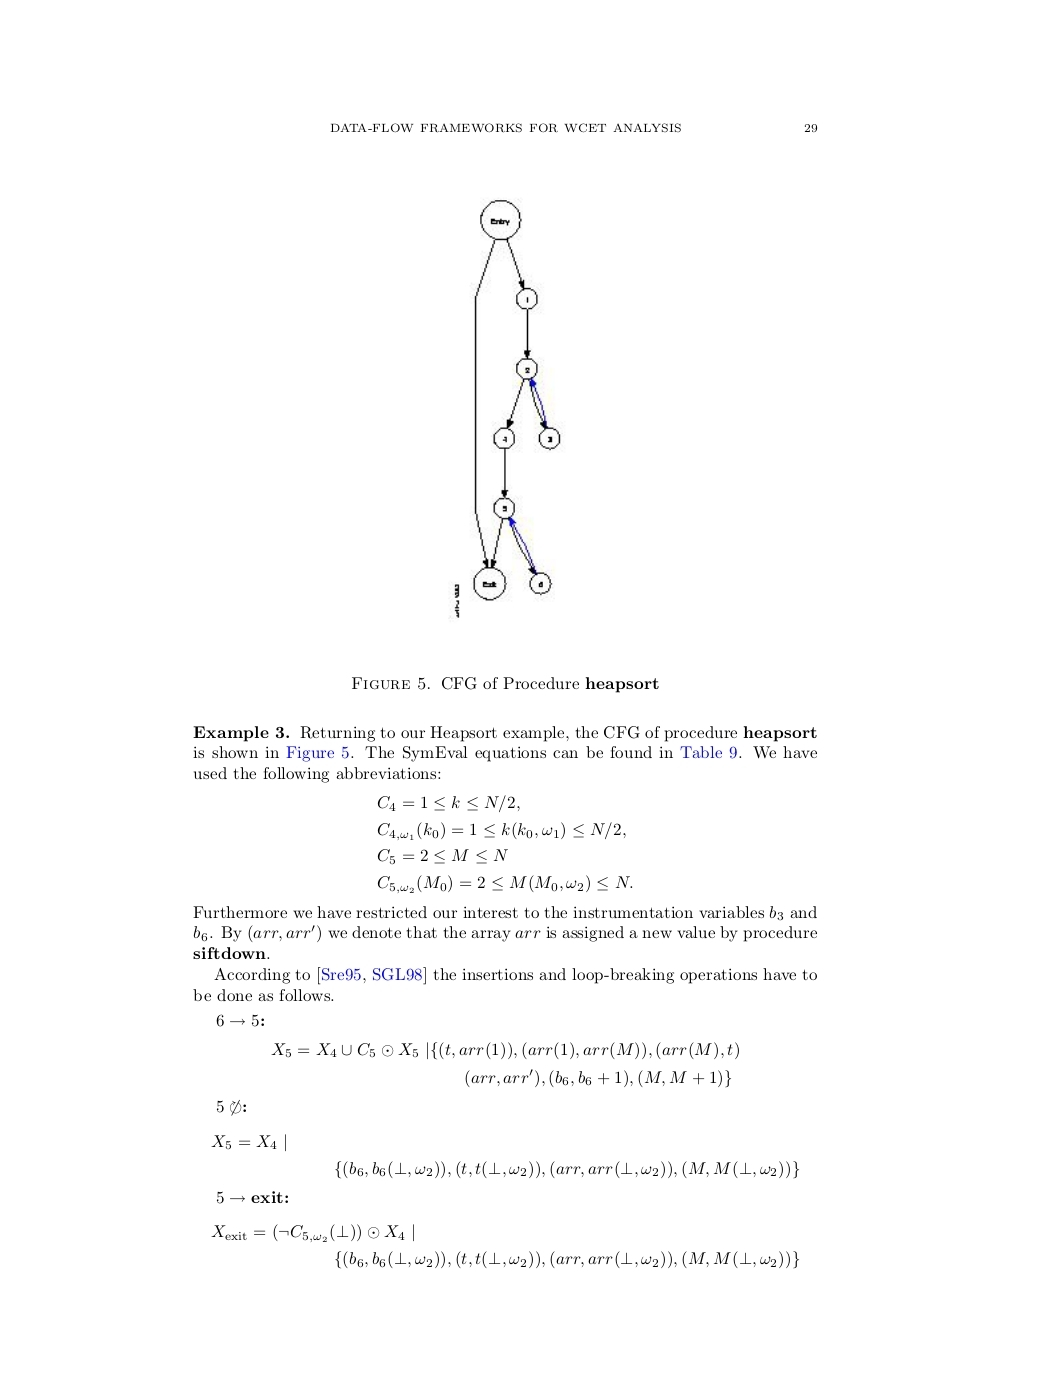figure: (450, 198, 562, 619)
formula: (271, 1041, 738, 1060), (335, 1160, 798, 1179), (335, 1250, 798, 1269), (465, 1068, 730, 1088), (377, 874, 632, 894), (377, 821, 625, 841), (211, 1223, 413, 1243), (377, 793, 519, 814), (377, 848, 507, 865), (211, 1135, 285, 1151)
